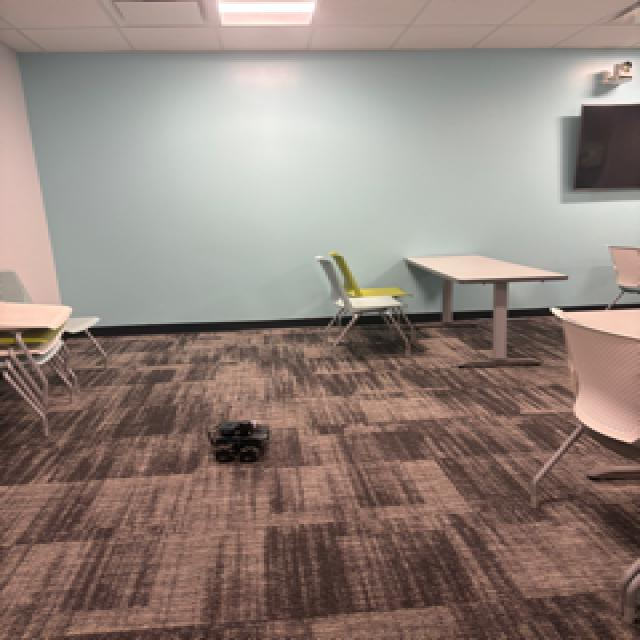ArduinoCar3: (203, 416, 274, 464)
